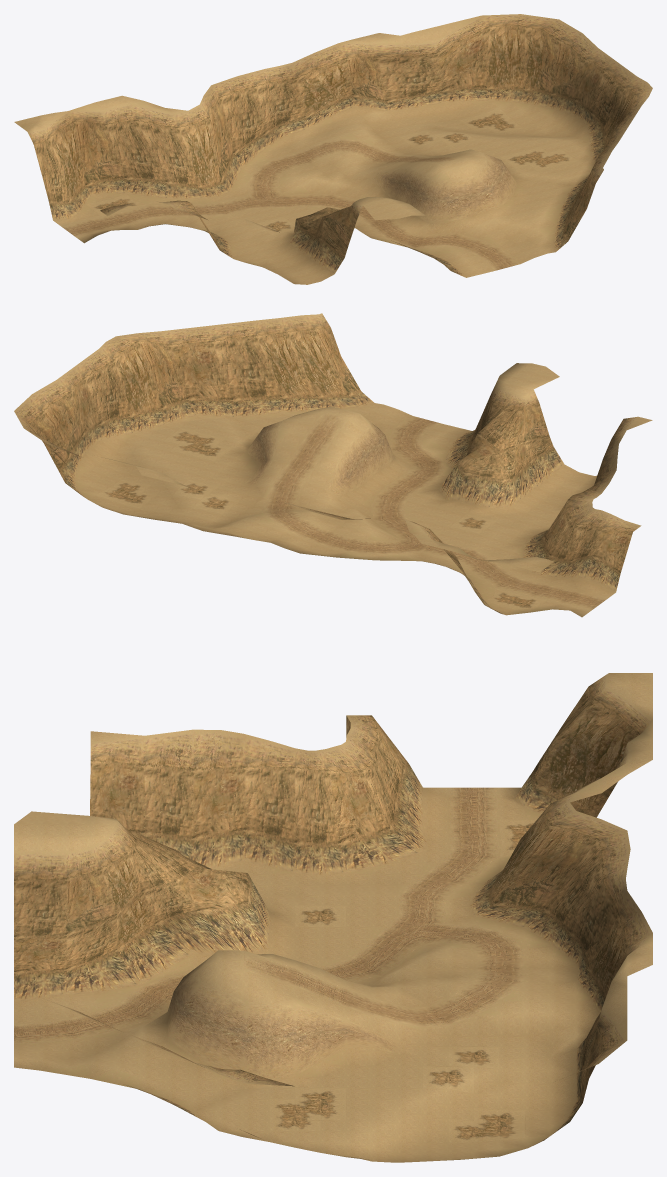
Rendered from Mission5_Zone02A.glb.
3 renders of one model, top to bottom at view 1: azimuth 30°, elevation 25°; view 2: azimuth 150°, elevation 25°; view 3: azimuth 270°, elevation 25°, orthographic. The views are drawn at different scales.
Visible parts, largest first — view 1: MISSION5_ZONE02A185, MISSION5_ZONE02A200, MISSION5_ZONE02A189, MISSION5_ZONE02A202, MISSION5_ZONE02A201, MISSION5_ZONE02A199, MISSION5_ZONE02A049, MISSION5_ZONE02A197, MISSION5_ZONE02A196, MISSION5_ZONE02A172, MISSION5_ZONE02A175, MISSION5_ZONE02A171 (+113 smaller); view 2: MISSION5_ZONE02A022, MISSION5_ZONE02A038, MISSION5_ZONE02A055, MISSION5_ZONE02A073, MISSION5_ZONE02A091, MISSION5_ZONE02A062, MISSION5_ZONE02A111, MISSION5_ZONE02A167, MISSION5_ZONE02A007, MISSION5_ZONE02A129, MISSION5_ZONE02A112, MISSION5_ZONE02A110 (+96 smaller); view 3: MISSION5_ZONE02A002, MISSION5_ZONE02A016, MISSION5_ZONE02A174, MISSION5_ZONE02A058, MISSION5_ZONE02A042, MISSION5_ZONE02A026, MISSION5_ZONE02A030, MISSION5_ZONE02A069, MISSION5_ZONE02A095, MISSION5_ZONE02A086, MISSION5_ZONE02A076, MISSION5_ZONE02A046 (+129 smaller).
Boxes of the visible parts, <box> form: MISSION5_ZONE02A185: <box>485,25,542,101</box>; MISSION5_ZONE02A200: <box>373,35,437,111</box>; MISSION5_ZONE02A189: <box>79,111,124,195</box>; MISSION5_ZONE02A202: <box>428,22,488,102</box>; MISSION5_ZONE02A201: <box>381,29,443,107</box>; MISSION5_ZONE02A199: <box>346,43,388,116</box>; MISSION5_ZONE02A049: <box>417,171,469,233</box>; MISSION5_ZONE02A197: <box>295,59,348,128</box>; MISSION5_ZONE02A196: <box>265,63,307,138</box>; MISSION5_ZONE02A172: <box>136,113,188,181</box>; MISSION5_ZONE02A175: <box>226,101,275,167</box>; MISSION5_ZONE02A171: <box>114,151,165,200</box>; MISSION5_ZONE02A022: <box>267,329,329,412</box>; MISSION5_ZONE02A038: <box>220,336,280,415</box>; MISSION5_ZONE02A055: <box>177,342,230,419</box>; MISSION5_ZONE02A073: <box>146,342,186,423</box>; MISSION5_ZONE02A091: <box>86,342,149,418</box>; MISSION5_ZONE02A062: <box>461,452,512,508</box>; MISSION5_ZONE02A111: <box>586,528,632,592</box>; MISSION5_ZONE02A167: <box>31,393,76,469</box>; MISSION5_ZONE02A007: <box>319,356,374,410</box>; MISSION5_ZONE02A129: <box>57,367,102,451</box>; MISSION5_ZONE02A112: <box>557,525,601,578</box>; MISSION5_ZONE02A110: <box>74,358,120,439</box>; MISSION5_ZONE02A002: <box>14,851,66,972</box>; MISSION5_ZONE02A016: <box>65,850,116,991</box>; MISSION5_ZONE02A174: <box>494,811,601,908</box>; MISSION5_ZONE02A058: <box>221,730,271,835</box>; MISSION5_ZONE02A042: <box>145,770,221,869</box>; MISSION5_ZONE02A026: <box>91,736,192,849</box>; MISSION5_ZONE02A030: <box>110,826,187,936</box>; MISSION5_ZONE02A069: <box>202,1002,272,1079</box>; MISSION5_ZONE02A095: <box>317,771,387,875</box>; MISSION5_ZONE02A086: <box>270,1003,320,1080</box>; MISSION5_ZONE02A076: <box>269,768,318,875</box>; MISSION5_ZONE02A046: <box>156,868,226,954</box>.
Bounding box in the file's own units: 153 × 21.72 × 100.
Materials: 21 (21 with a texture image).
